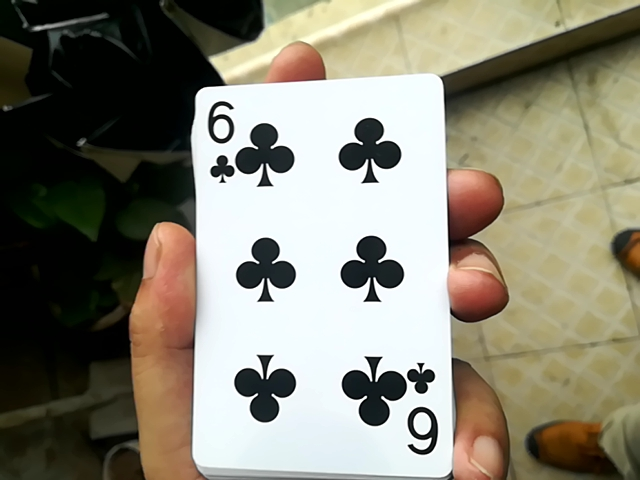mh 6: (177, 71, 461, 476)
